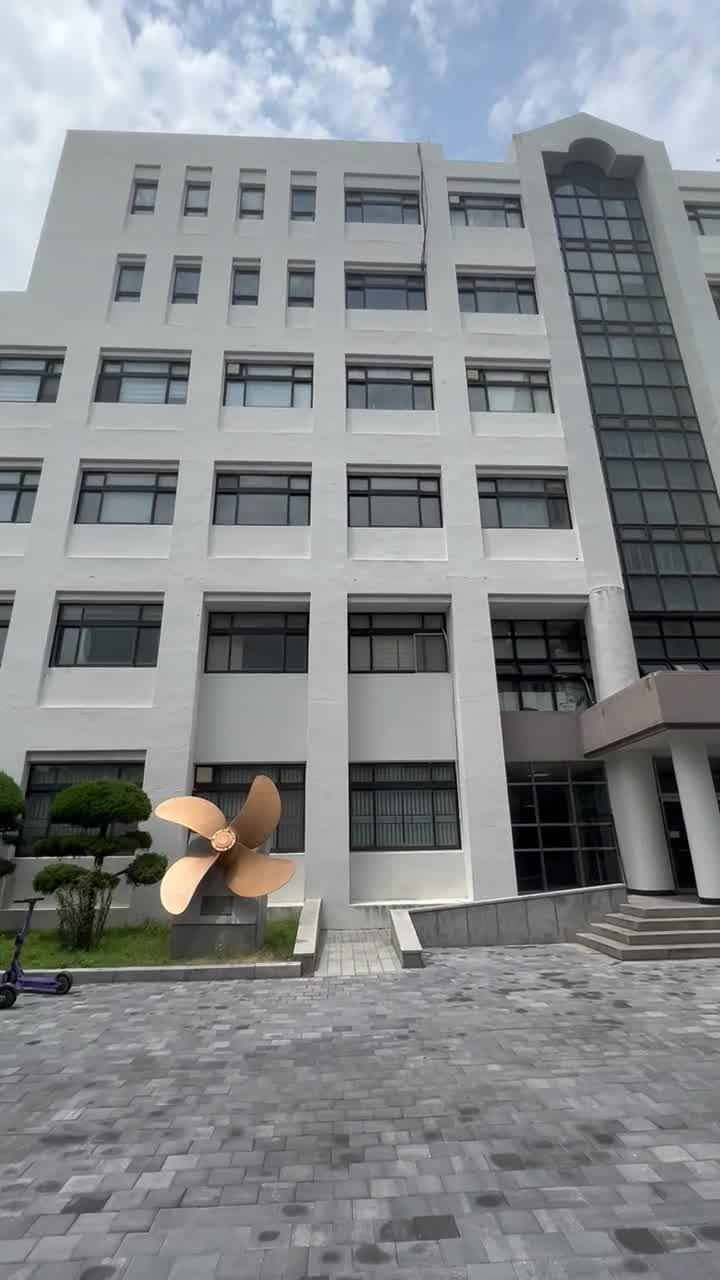building: (48, 68, 720, 924)
